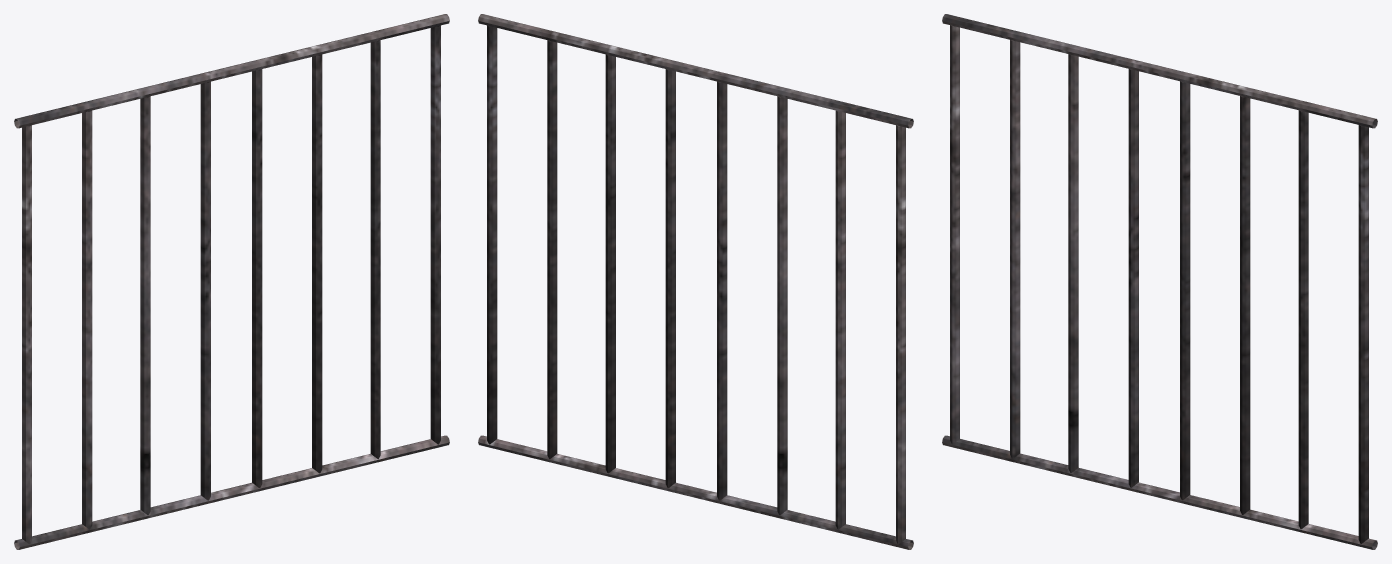
The model's file is GRADE.fbx.
3 views of the same model, side by side, from view 1: azimuth 30°, elevation 25°; view 2: azimuth 150°, elevation 25°; view 3: azimuth 330°, elevation 25° (orthographic).
Visible parts, largest first — view 1: Cylinder; view 2: Cylinder; view 3: Cylinder.
Boxes of the visible parts, x1,y1,x2,y2 form: Cylinder: (14, 14, 449, 549); Cylinder: (478, 14, 913, 549); Cylinder: (942, 14, 1377, 549).
Bounding box in the file's own units: 216 × 206 × 4.86.
Materials: 1 (1 with a texture image).
